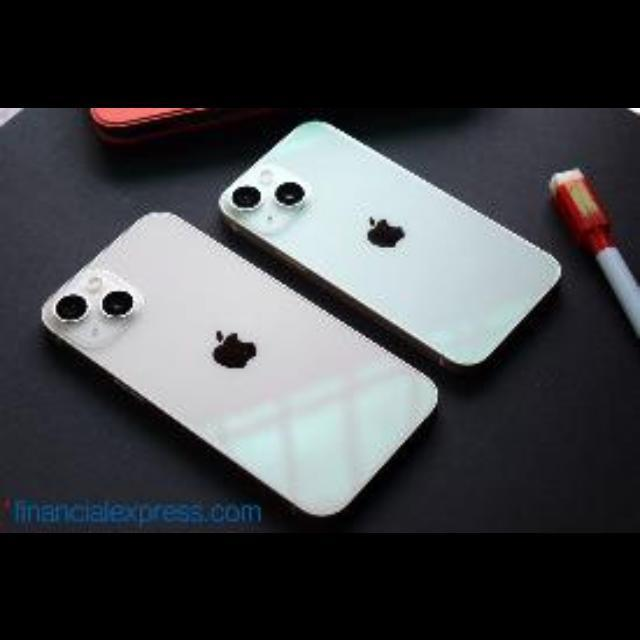PhoneUse: (31, 212, 435, 514), (222, 107, 570, 335)
